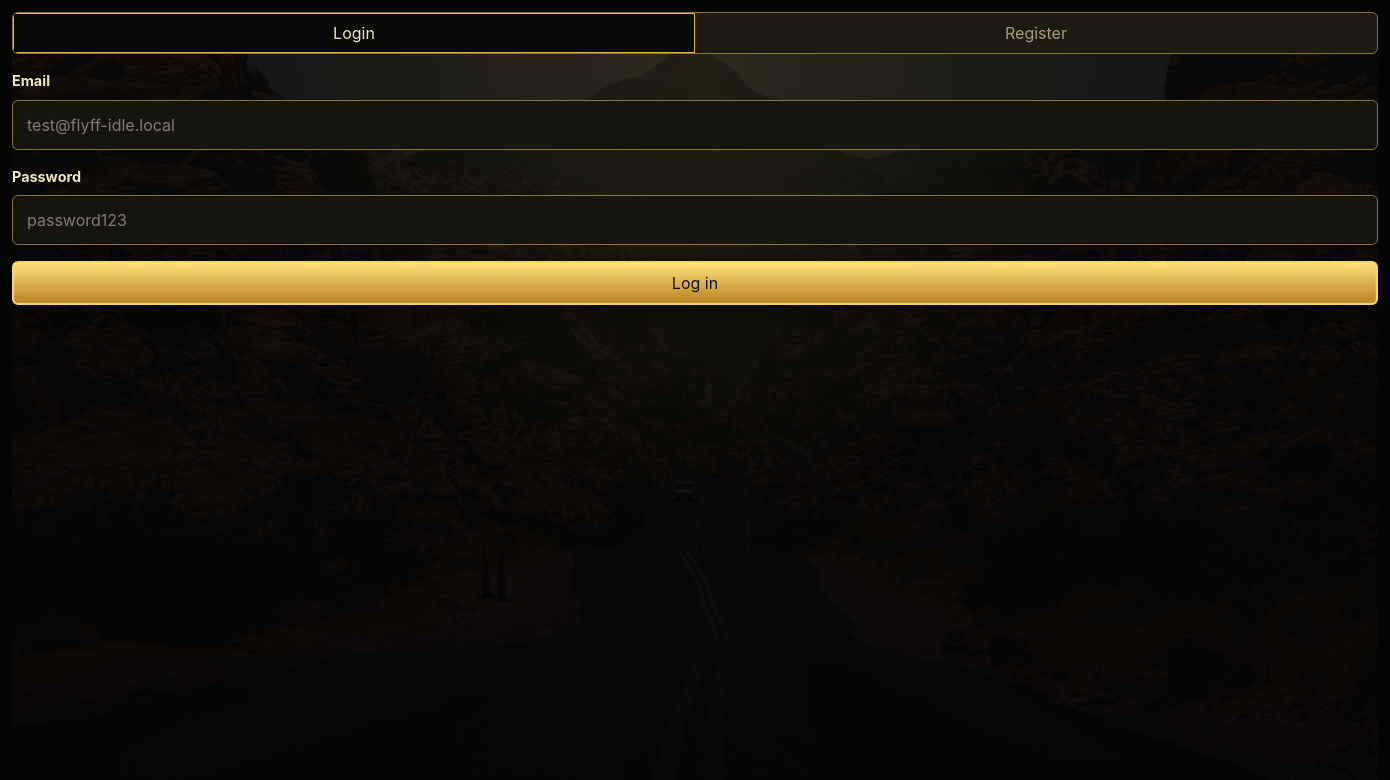
Test case: LoginForm › login validation › shows invalid-email/password123 validation errors
The width and height of the screenshot is (1390, 780).
Type "invalid-email" into the field labelled "Email". click: (695, 125)
box: [12,100,1378,150]
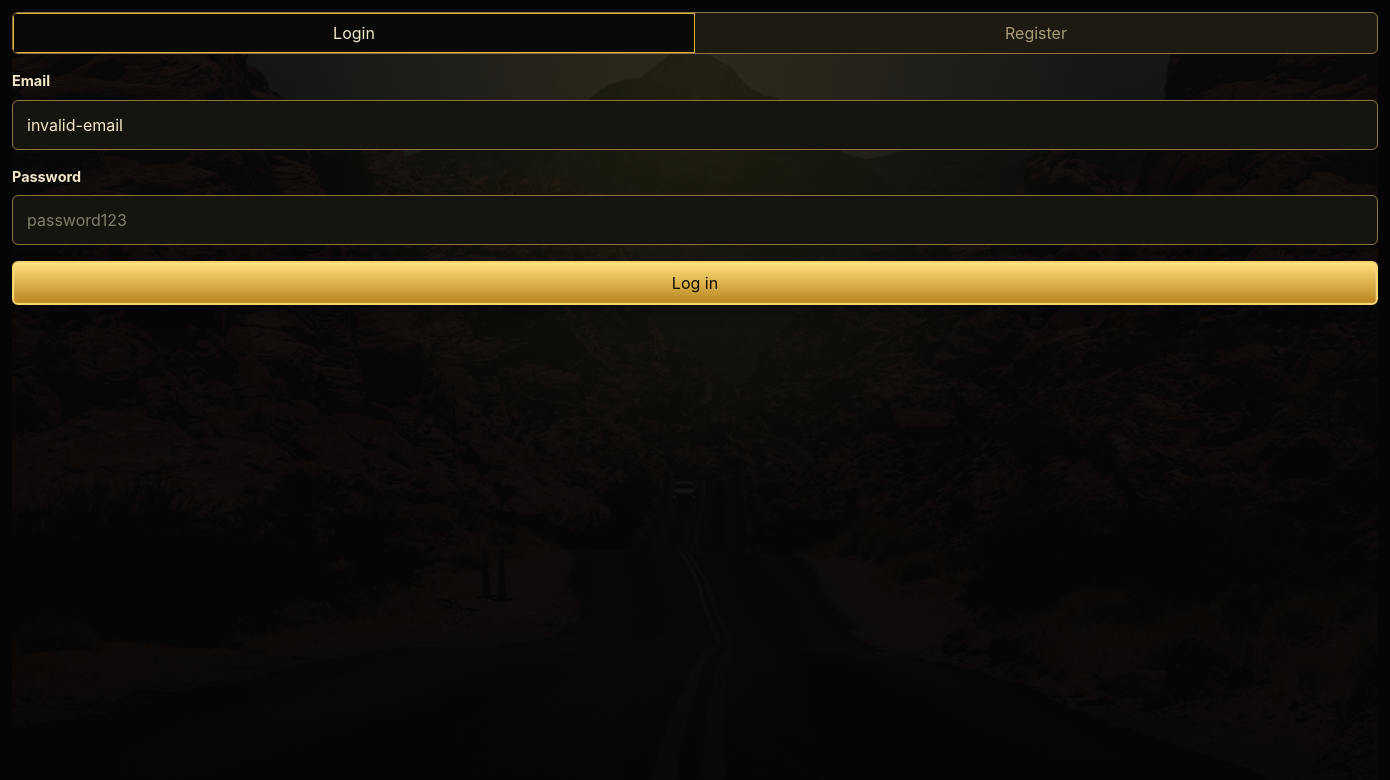
Type "password123" into the password field labelled "Password". click: (695, 220)
box: [12,195,1378,245]
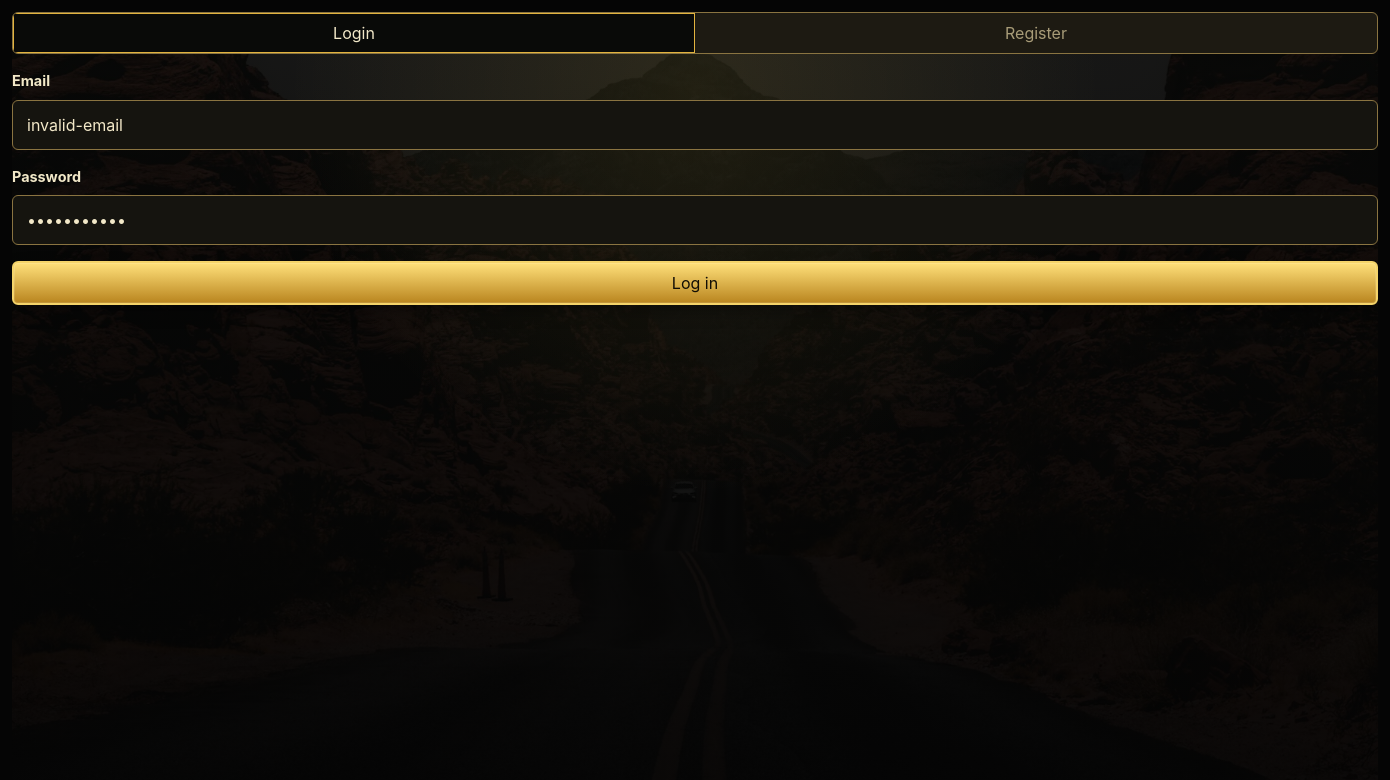
Click the button "Log in". click: click(695, 283)
box: [12,261,1378,305]
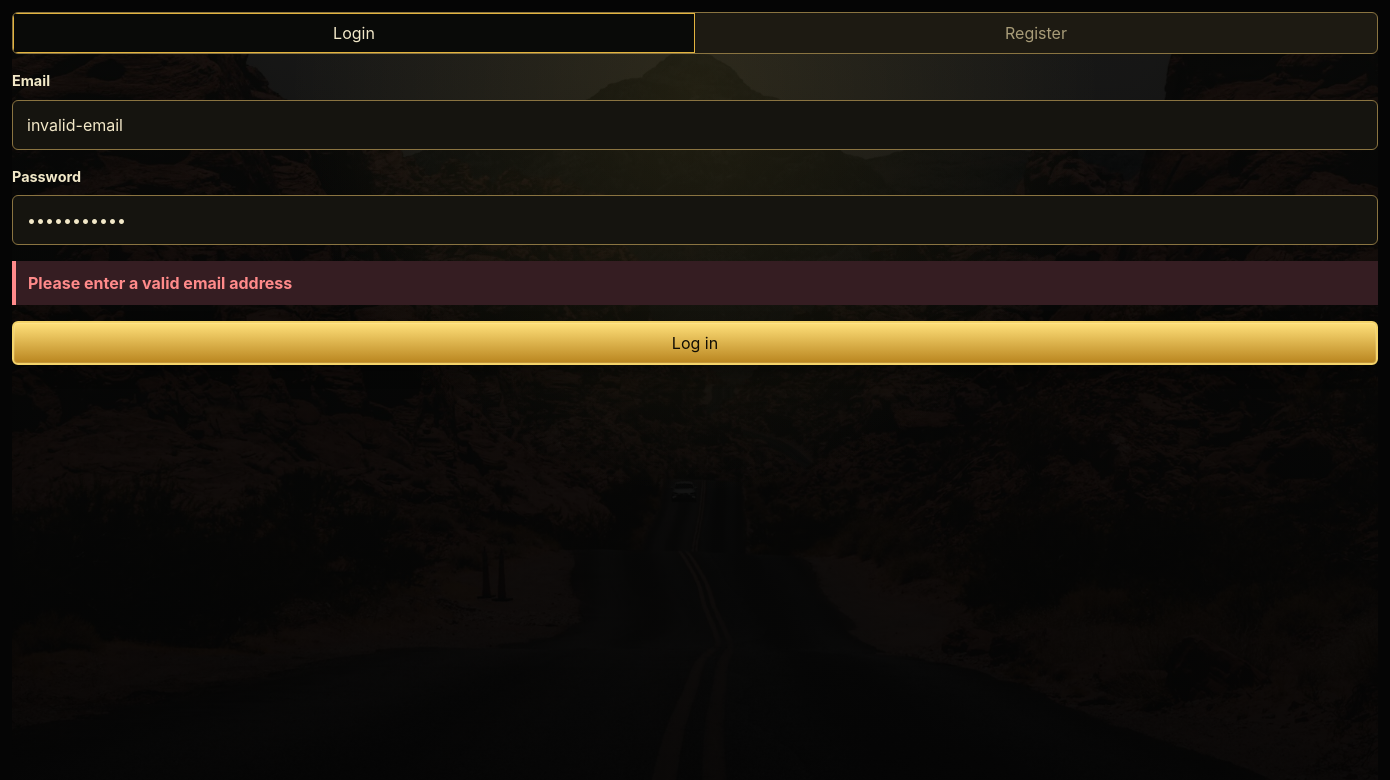
Now the text "Please enter a valid email address" is shown, box [28,273,292,293]
